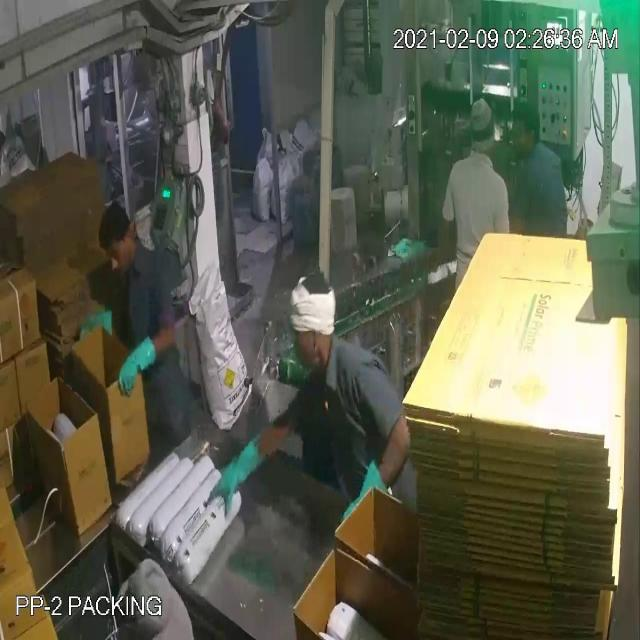Gloves: (42, 44, 364, 509)
